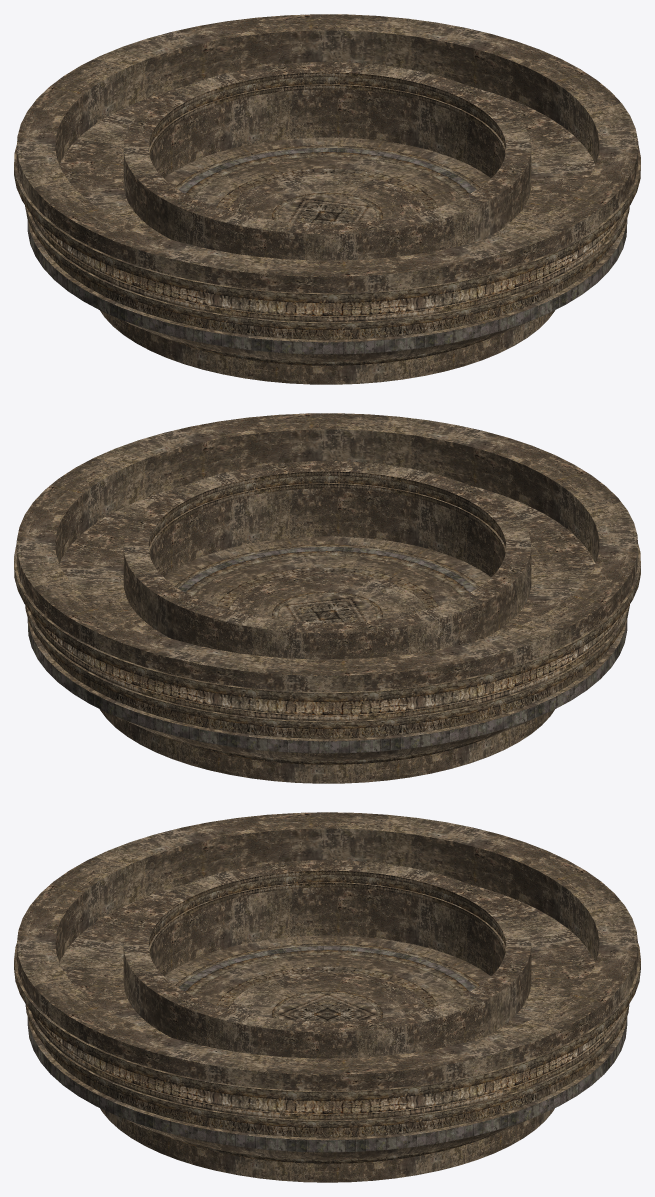
File: materials_5_floor_round_7.fbx
3 renders of one model, top to bottom at view 1: azimuth 30°, elevation 25°; view 2: azimuth 150°, elevation 25°; view 3: azimuth 270°, elevation 25°, orthographic.
Parts seen in each view (by area): view 1: materials_5_floor_round_7; view 2: materials_5_floor_round_7; view 3: materials_5_floor_round_7.
Part boxes in pixels (bbox=[...]): materials_5_floor_round_7: bbox=[14, 14, 640, 384]; materials_5_floor_round_7: bbox=[14, 413, 640, 783]; materials_5_floor_round_7: bbox=[14, 812, 640, 1182].
Bounding box in the file's own units: 572 × 141 × 572.
